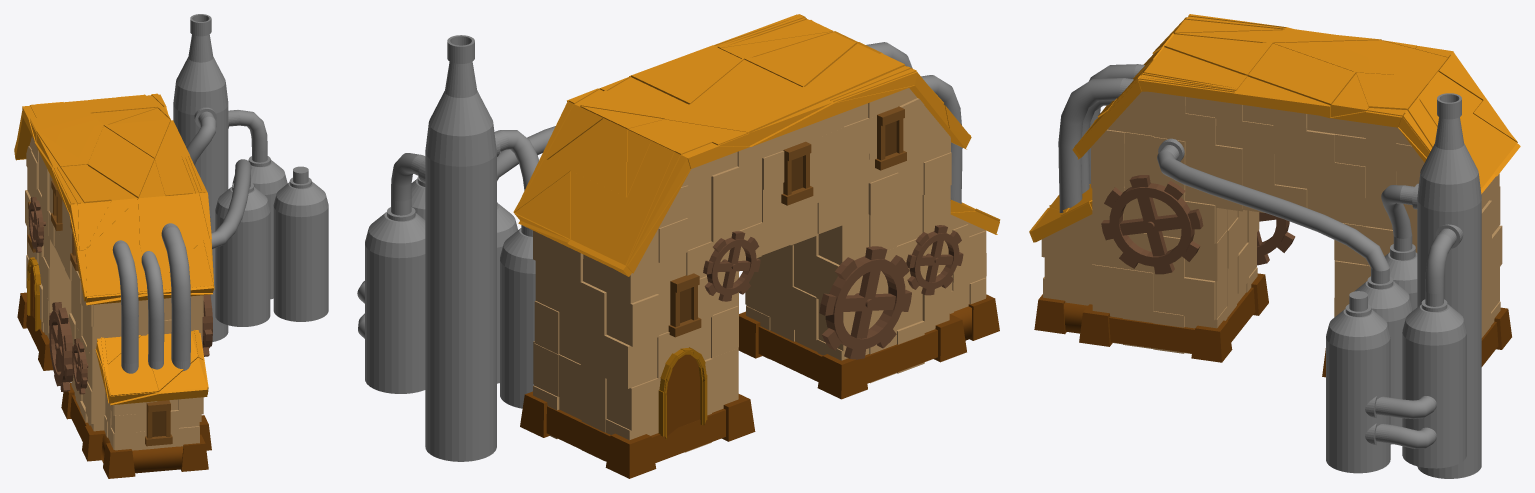
The model's file is House_1.fbx.
3 views of the same model, side by side, from view 1: azimuth 30°, elevation 25°; view 2: azimuth 150°, elevation 25°; view 3: azimuth 270°, elevation 25° (orthographic). The views are drawn at different scales.
Parts seen in each view (by area): view 1: Cube.061, Cube.064, Cylinder.051, Cylinder.053, Cylinder.050, Cylinder.063, Cylinder.062, Cylinder.061, Cube.068, Cylinder.042, Cylinder.054, Cylinder.052 (+12 smaller); view 2: Cube.061, Cylinder.053, Cube.064, Cylinder.052, Cube.062, Cylinder.042, Cylinder.049, Cube.063, Cube.065, Cube.071, Cylinder.046, Cylinder.045 (+9 smaller); view 3: Cube.061, Cube.064, Cylinder.053, Cylinder.051, Cylinder.052, Cylinder.065, Cylinder.054, Cube.063, Cylinder.063, Cylinder.050, Cylinder.048, Cylinder.057 (+10 smaller).
Boxes of the visible parts, box(x1,y1,x2,y2) form: Cube.061: box(14, 93, 214, 340); Cube.064: box(69, 281, 208, 450); Cylinder.051: box(273, 181, 328, 321); Cylinder.053: box(173, 14, 228, 341); Cylinder.050: box(215, 187, 270, 326); Cylinder.063: box(161, 223, 190, 370); Cylinder.062: box(112, 240, 138, 373); Cylinder.061: box(141, 251, 164, 369); Cube.068: box(132, 434, 208, 473); Cylinder.042: box(49, 302, 73, 391); Cylinder.054: box(211, 159, 253, 248); Cylinder.052: box(232, 160, 287, 299); Cube.061: box(513, 14, 971, 461); Cylinder.053: box(425, 35, 496, 461); Cube.064: box(745, 185, 1000, 383); Cylinder.052: box(365, 212, 425, 393); Cube.062: box(520, 391, 755, 478); Cylinder.042: box(819, 246, 911, 359); Cylinder.049: box(500, 228, 535, 408); Cube.063: box(738, 311, 966, 383); Cube.065: box(758, 326, 867, 399); Cube.071: box(658, 347, 707, 439); Cylinder.046: box(703, 231, 760, 301); Cylinder.045: box(906, 225, 963, 295); Cube.061: box(1072, 14, 1520, 337); Cube.064: box(1029, 184, 1259, 353); Cylinder.053: box(1417, 93, 1481, 478); Cylinder.051: box(1326, 309, 1390, 473); Cylinder.052: box(1402, 304, 1466, 468); Cylinder.065: box(1101, 175, 1203, 274); Cylinder.054: box(1157, 138, 1393, 289); Cube.063: box(1079, 304, 1258, 362); Cylinder.063: box(1058, 78, 1133, 212); Cylinder.050: box(1354, 281, 1412, 444); Cylinder.048: box(1381, 183, 1418, 260); Cylinder.057: box(1421, 224, 1463, 311).
Bounding box in the file's own units: 1453 × 1251 × 1520.
